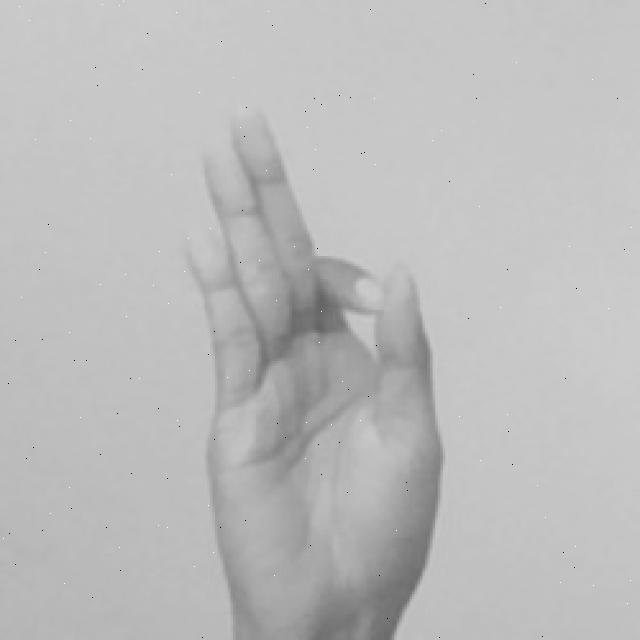F: (177, 105, 450, 640)
